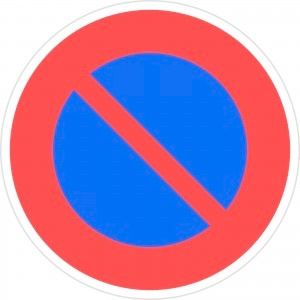Prohibition_sign: (1, 1, 300, 298)
